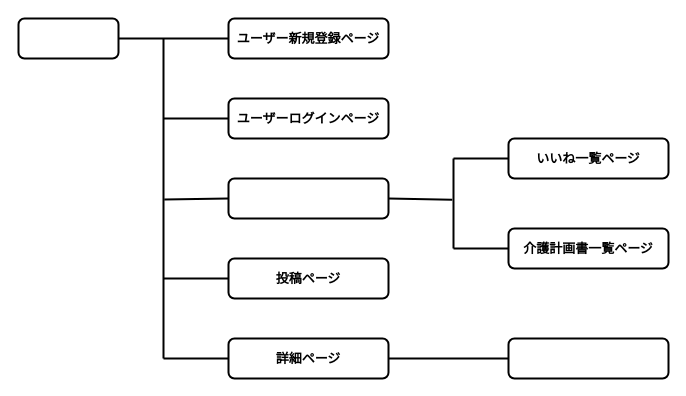
Image size: 686x396. Some labels were removed from this diagram. Each missing label, with the box of its shape:
トップページ: (17, 17, 119, 59)
ユーザーマイページ: (227, 177, 389, 219)
編集ページ: (507, 337, 669, 379)
